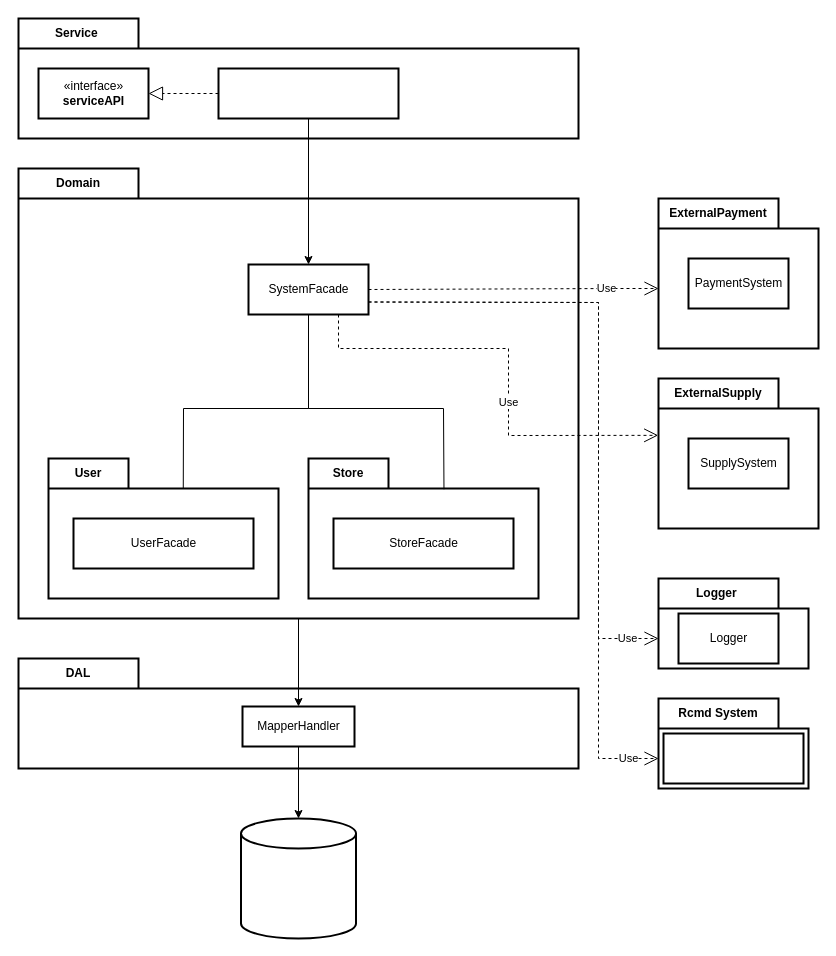
Image size: 836x956. Some labels were removed from this diagram. The shapes that lost their labels are listed below. From the top down, each one's box as (x1, y1, x2, y2) in pixels, then its label:
(217, 67, 399, 119): SystemServiceAPI
(662, 732, 804, 784): RecommendationSystem
(240, 817, 356, 939): Database
